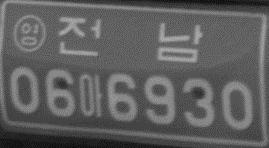0: (220, 79, 254, 132), (9, 65, 42, 115)
3: (181, 76, 215, 128)
6: (106, 72, 138, 123), (44, 68, 75, 118)
9: (142, 73, 176, 125)
아: (78, 72, 104, 119)
영: (13, 13, 47, 53)
전남_D: (57, 15, 202, 63)
